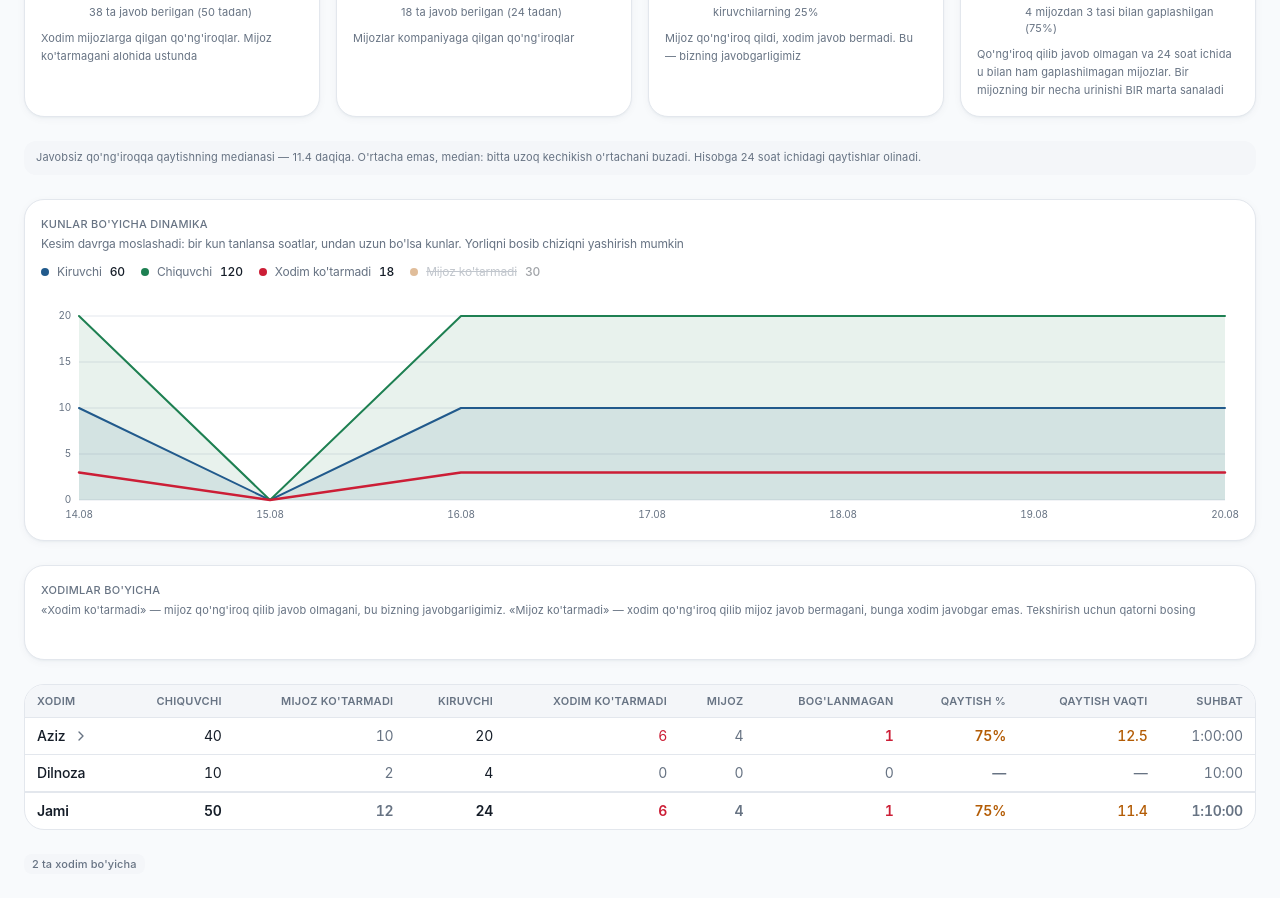
Test case: the detail dialog › opens from a row that has unreached customers and proves its number
(page scrolled)
# Scoped: the agent filter lists the same names.
Click the text "Aziz" at (51, 736), box [37,726,65,746]
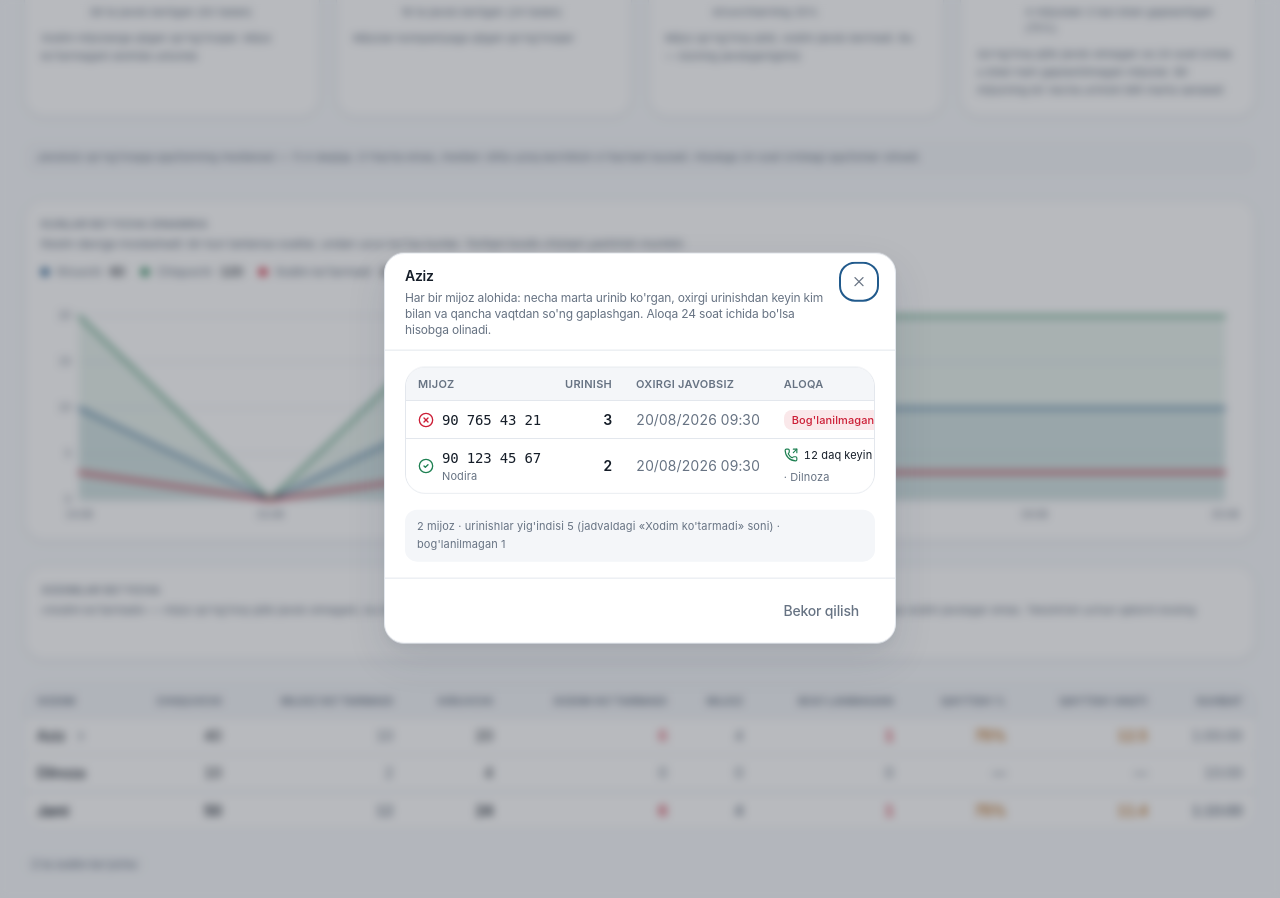
expect the heading "Aziz" is shown: met, box [405,267,434,284]
